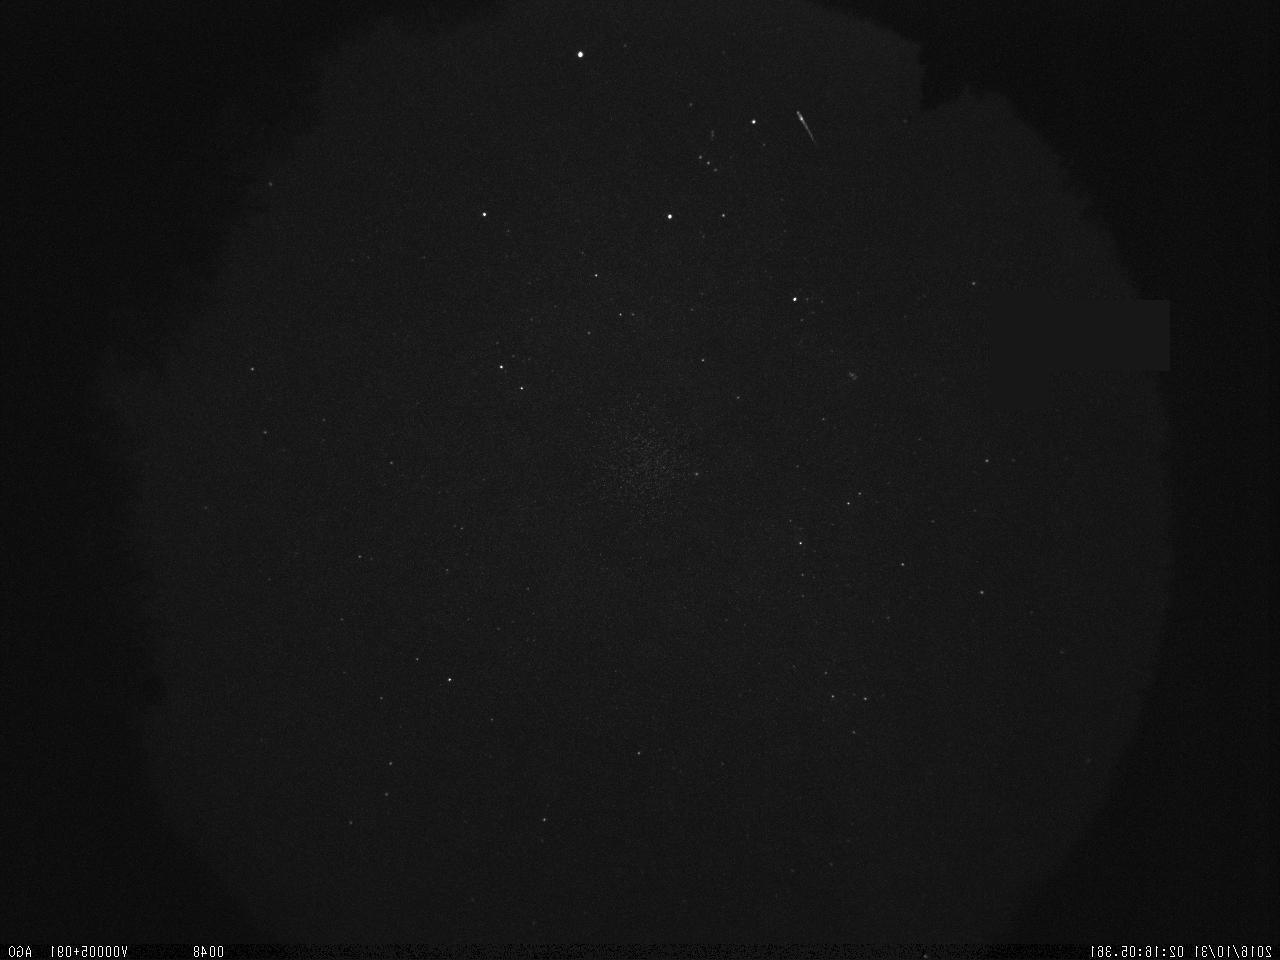meteor: (724, 88, 865, 157)
